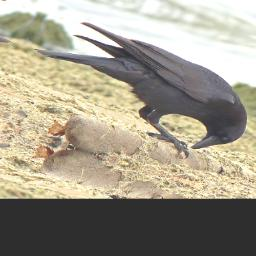Crow: (1, 12, 256, 171)
